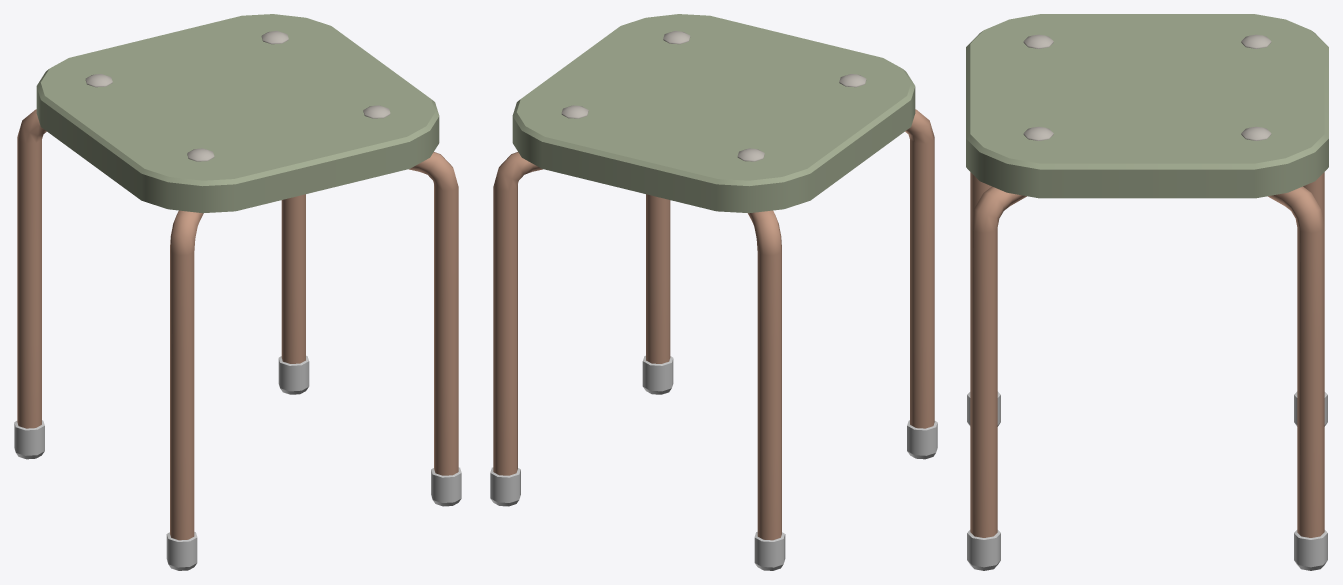
File: !stool_0.fbx
3 renders of one model, left to right at view 1: azimuth 30°, elevation 25°; view 2: azimuth 150°, elevation 25°; view 3: azimuth 270°, elevation 25°, orthographic. The views are drawn at different scales.
Parts seen in each view (by area): view 1: stoolTop_GEO, stoolLeg_GEO (×4), stoolLegCap_GEO (×4); view 2: stoolTop_GEO, stoolLeg_GEO (×4), stoolLegCap_GEO (×4); view 3: stoolTop_GEO, stoolLeg_GEO (×2), stoolLegCap_GEO (×2).
Part boxes in pixels (x1=…): stoolTop_GEO: x1=36, y1=14, x2=439, y2=213; stoolLeg_GEO (×4): x1=17, y1=109, x2=458, y2=540; stoolLegCap_GEO (×4): x1=14, y1=355, x2=461, y2=570; stoolTop_GEO: x1=512, y1=14, x2=915, y2=213; stoolLeg_GEO (×4): x1=493, y1=109, x2=934, y2=540; stoolLegCap_GEO (×4): x1=490, y1=355, x2=937, y2=570; stoolTop_GEO: x1=966, y1=14, x2=1328, y2=198; stoolLeg_GEO (×2): x1=970, y1=186, x2=1324, y2=537; stoolLegCap_GEO (×2): x1=967, y1=530, x2=1327, y2=570.
Bounding box in the file's own units: 40 × 50.22 × 40.
